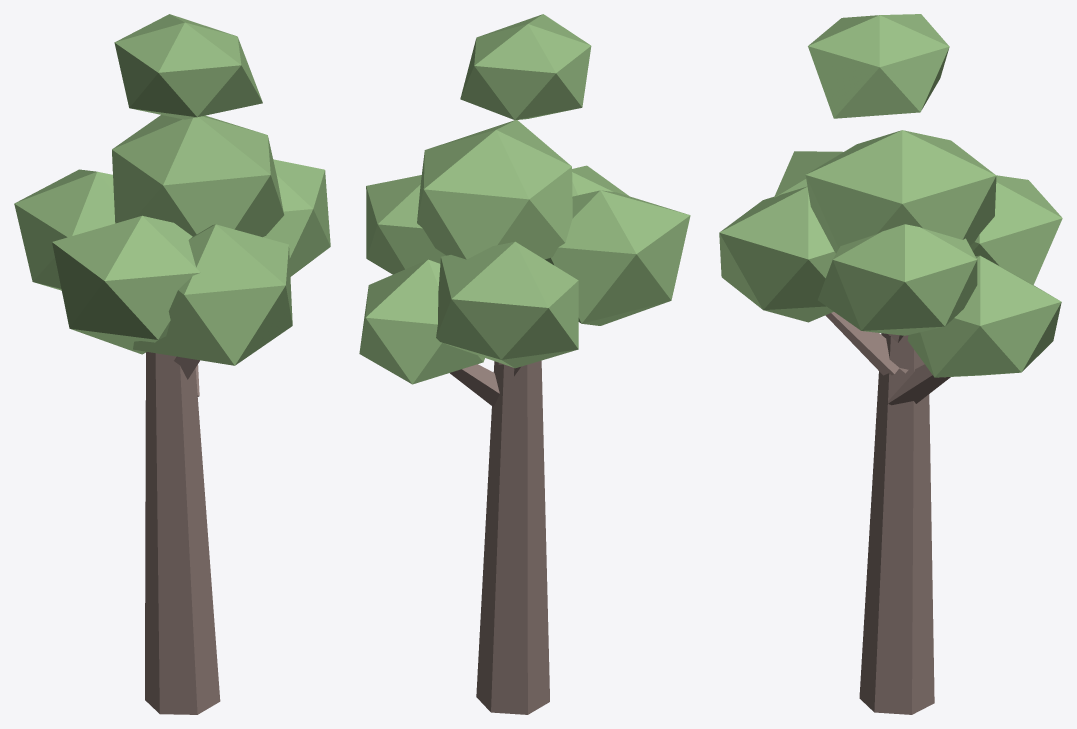
File: arv_carvalho_4_sem_textura.glb
3 renders of one model, left to right at view 1: azimuth 30°, elevation 25°; view 2: azimuth 150°, elevation 25°; view 3: azimuth 270°, elevation 25°, orthographic. The views are drawn at different scales.
Visible parts, largest first — view 1: arv_carvalho_4; view 2: arv_carvalho_4; view 3: arv_carvalho_4.
Part boxes in pixels (x1,y1,x2,y2): arv_carvalho_4: (14,14,330,714); arv_carvalho_4: (359,14,690,714); arv_carvalho_4: (719,14,1062,714).
Size of the model in its own units: 0.8623 by 1.99 by 0.9078.
